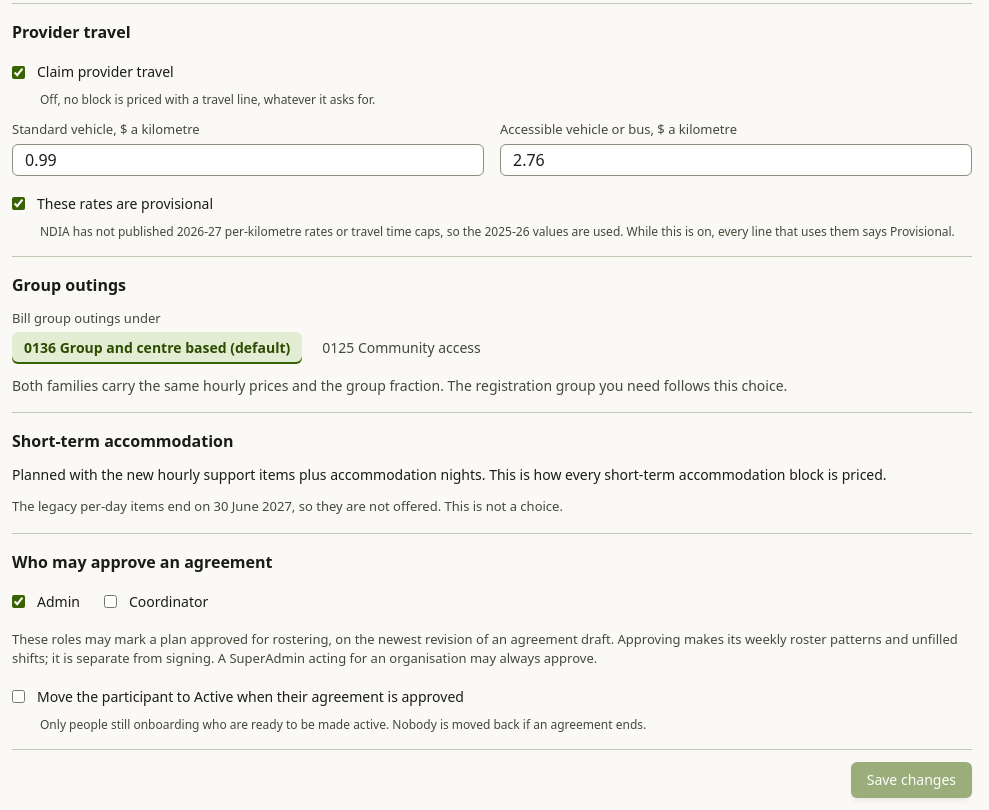
Test case: Plan pricing settings › needs at least one approver role
(page scrolled)
Step 1. Click the checkbox labelled "Admin" → click(18, 602), box [12,595,25,608]
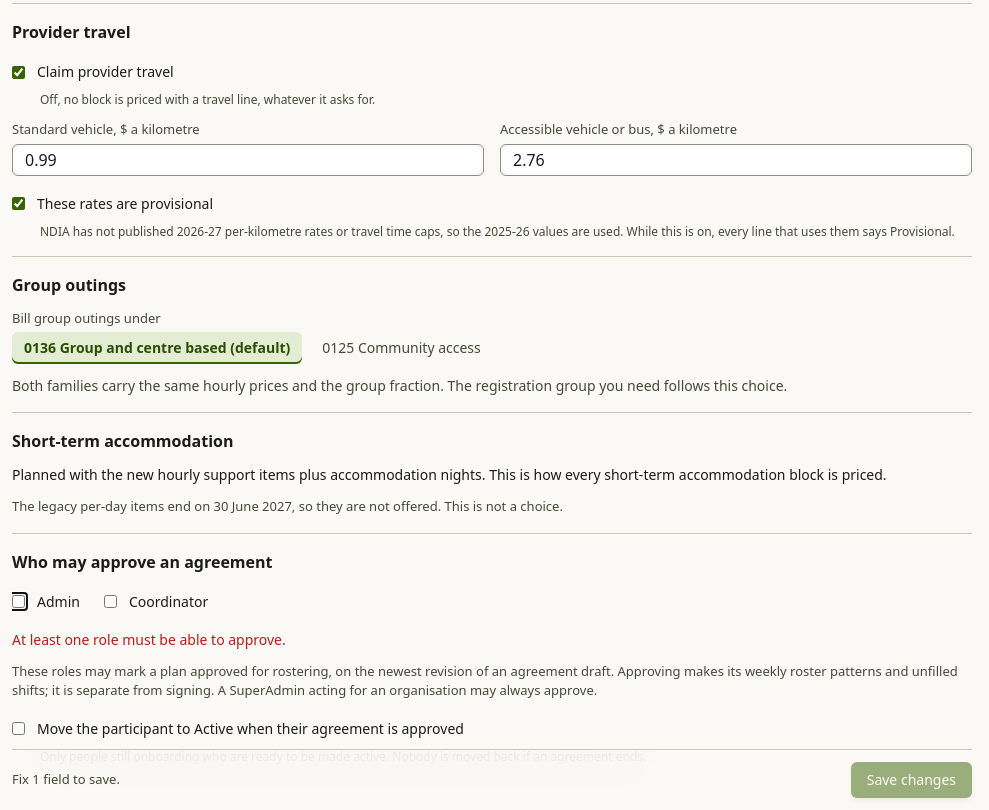
Expected: the button "Save changes" is disabled, [851,762,972,798]
Now the text "At least one role must be able to approve." is shown, box [12,630,286,648]
